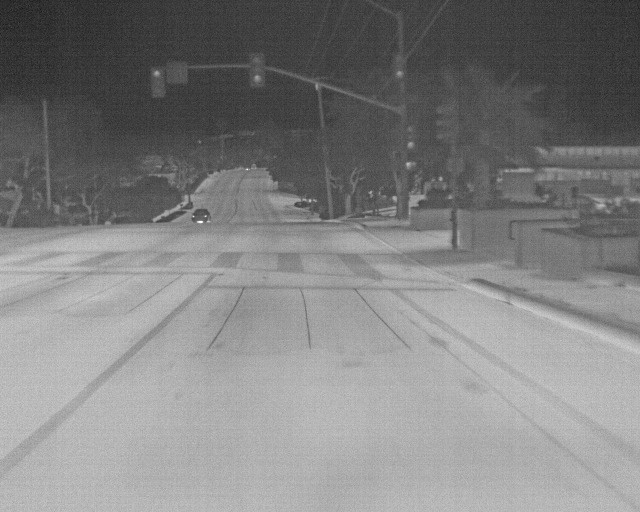vehicle: (191, 210, 214, 224)
